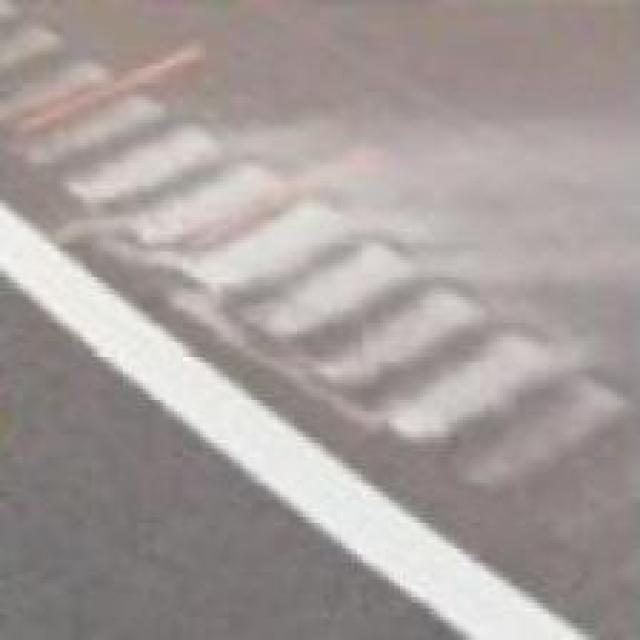zebra: (4, 6, 632, 619)
